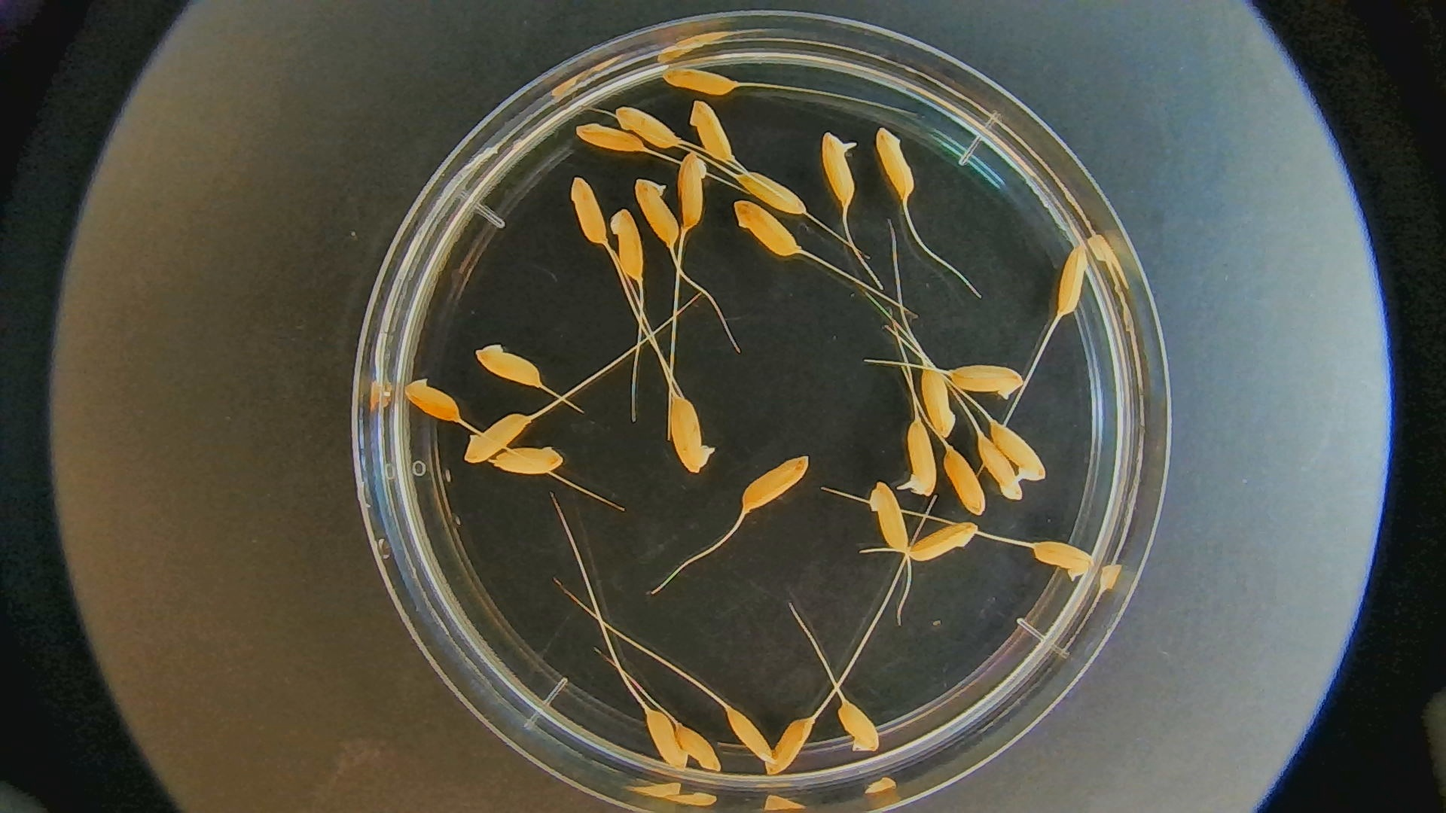no: (727, 193, 799, 263), (737, 451, 813, 515), (625, 173, 682, 250), (972, 432, 1027, 510), (665, 392, 715, 476), (606, 98, 682, 153), (639, 704, 692, 781), (730, 163, 808, 214), (669, 711, 725, 782), (471, 337, 545, 389), (718, 703, 777, 766), (904, 520, 980, 568), (1051, 239, 1094, 322), (457, 414, 530, 462), (688, 96, 736, 169), (940, 443, 987, 517), (874, 123, 918, 202), (916, 361, 956, 447), (566, 172, 609, 251), (572, 113, 647, 158), (864, 480, 907, 558), (767, 714, 824, 772), (673, 148, 709, 238), (948, 362, 1025, 403), (1029, 539, 1096, 586), (837, 693, 886, 757), (609, 206, 648, 285), (401, 378, 463, 425), (657, 58, 736, 93), (487, 445, 566, 478)
yes: (987, 413, 1048, 489), (816, 123, 859, 209), (899, 419, 937, 501)
